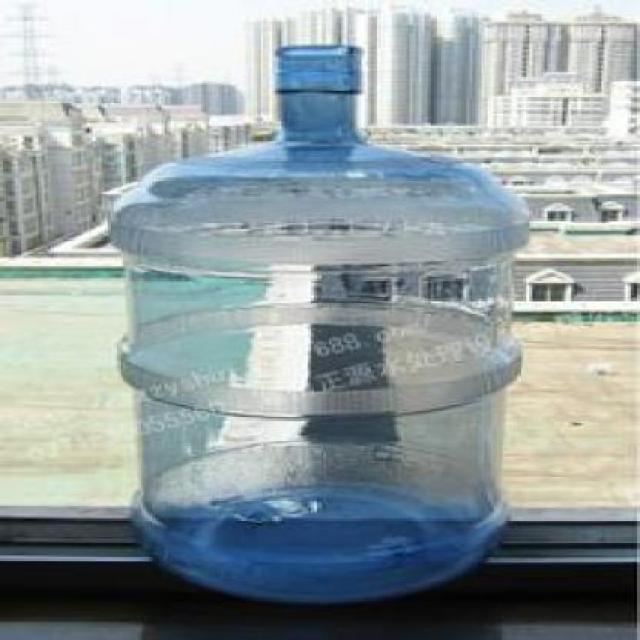coolerbottle: (106, 40, 536, 607)
